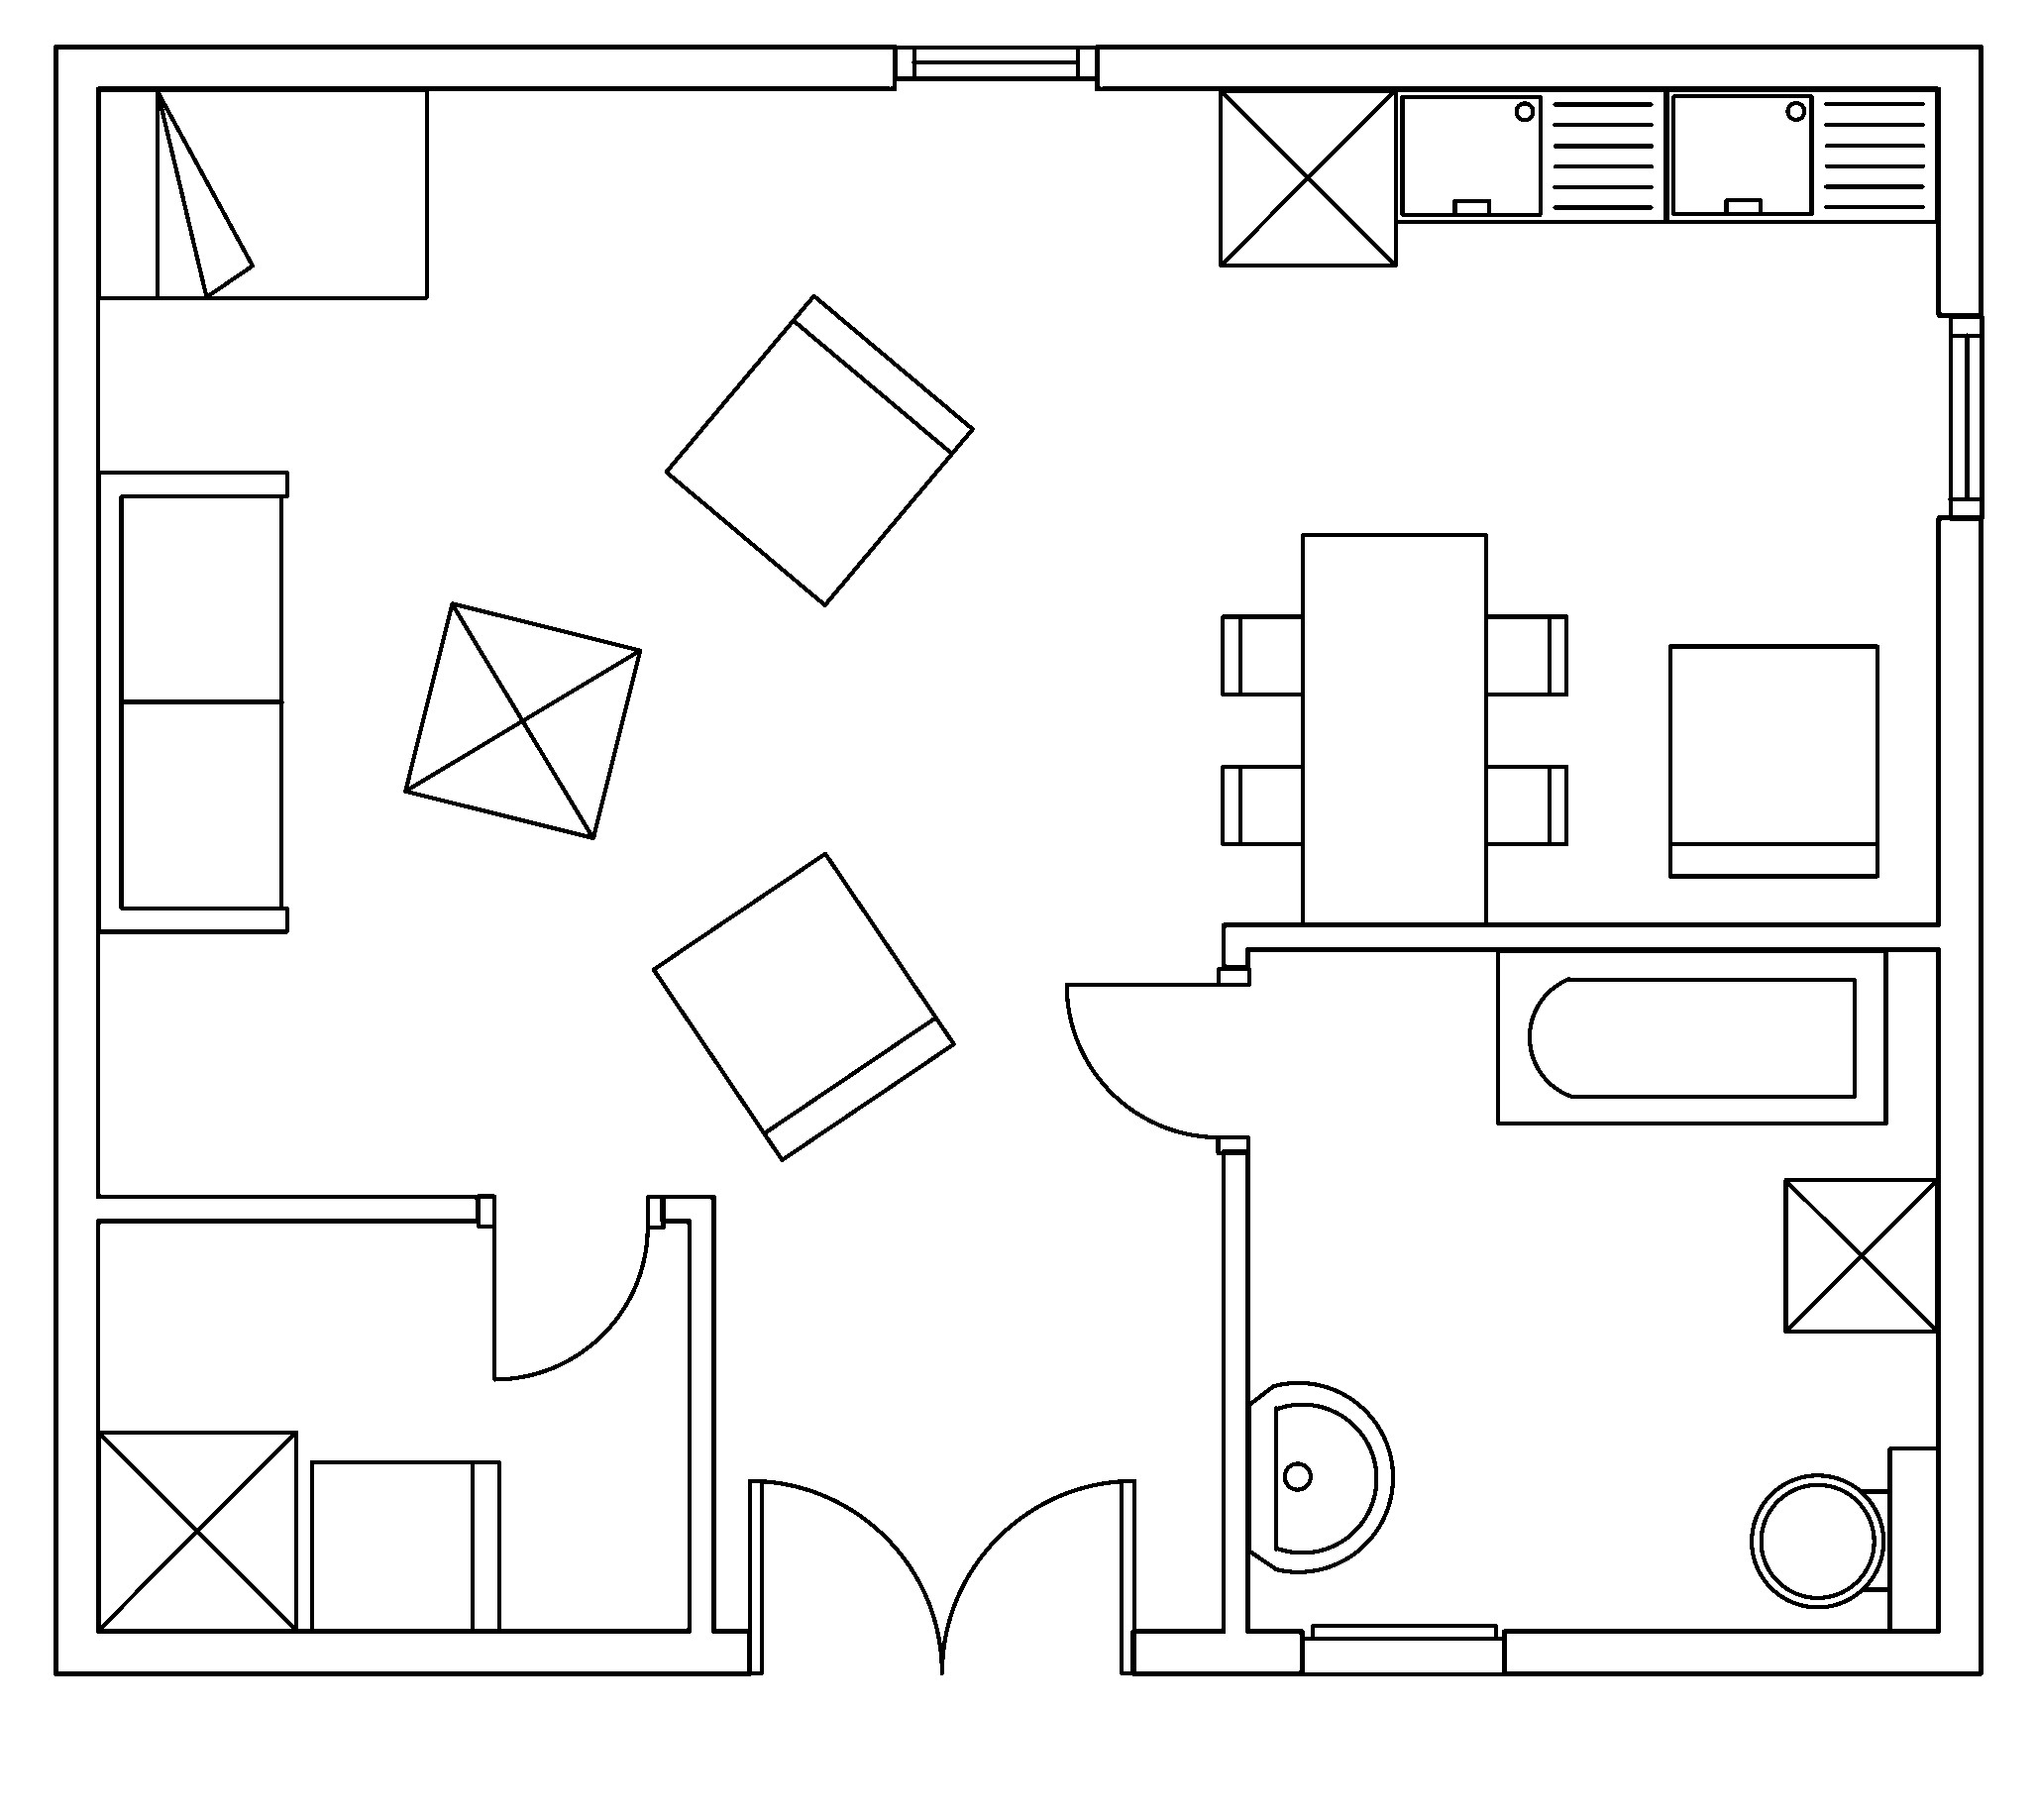bed: (95, 86, 428, 300)
coffee_table: (402, 599, 643, 840), (95, 1428, 299, 1632), (1217, 86, 1398, 267), (1781, 1175, 1940, 1333)
dining_table: (1219, 531, 1568, 926)
large_sink: (1749, 1444, 1940, 1632)
large_sofa: (95, 467, 290, 933)
sink: (1663, 86, 1940, 223), (1393, 86, 1668, 223)
small_sink: (1245, 1381, 1394, 1572)
small_sofa: (662, 292, 975, 608), (650, 850, 955, 1163), (1666, 641, 1879, 878), (307, 1458, 500, 1632)
tub: (1494, 947, 1888, 1126)
